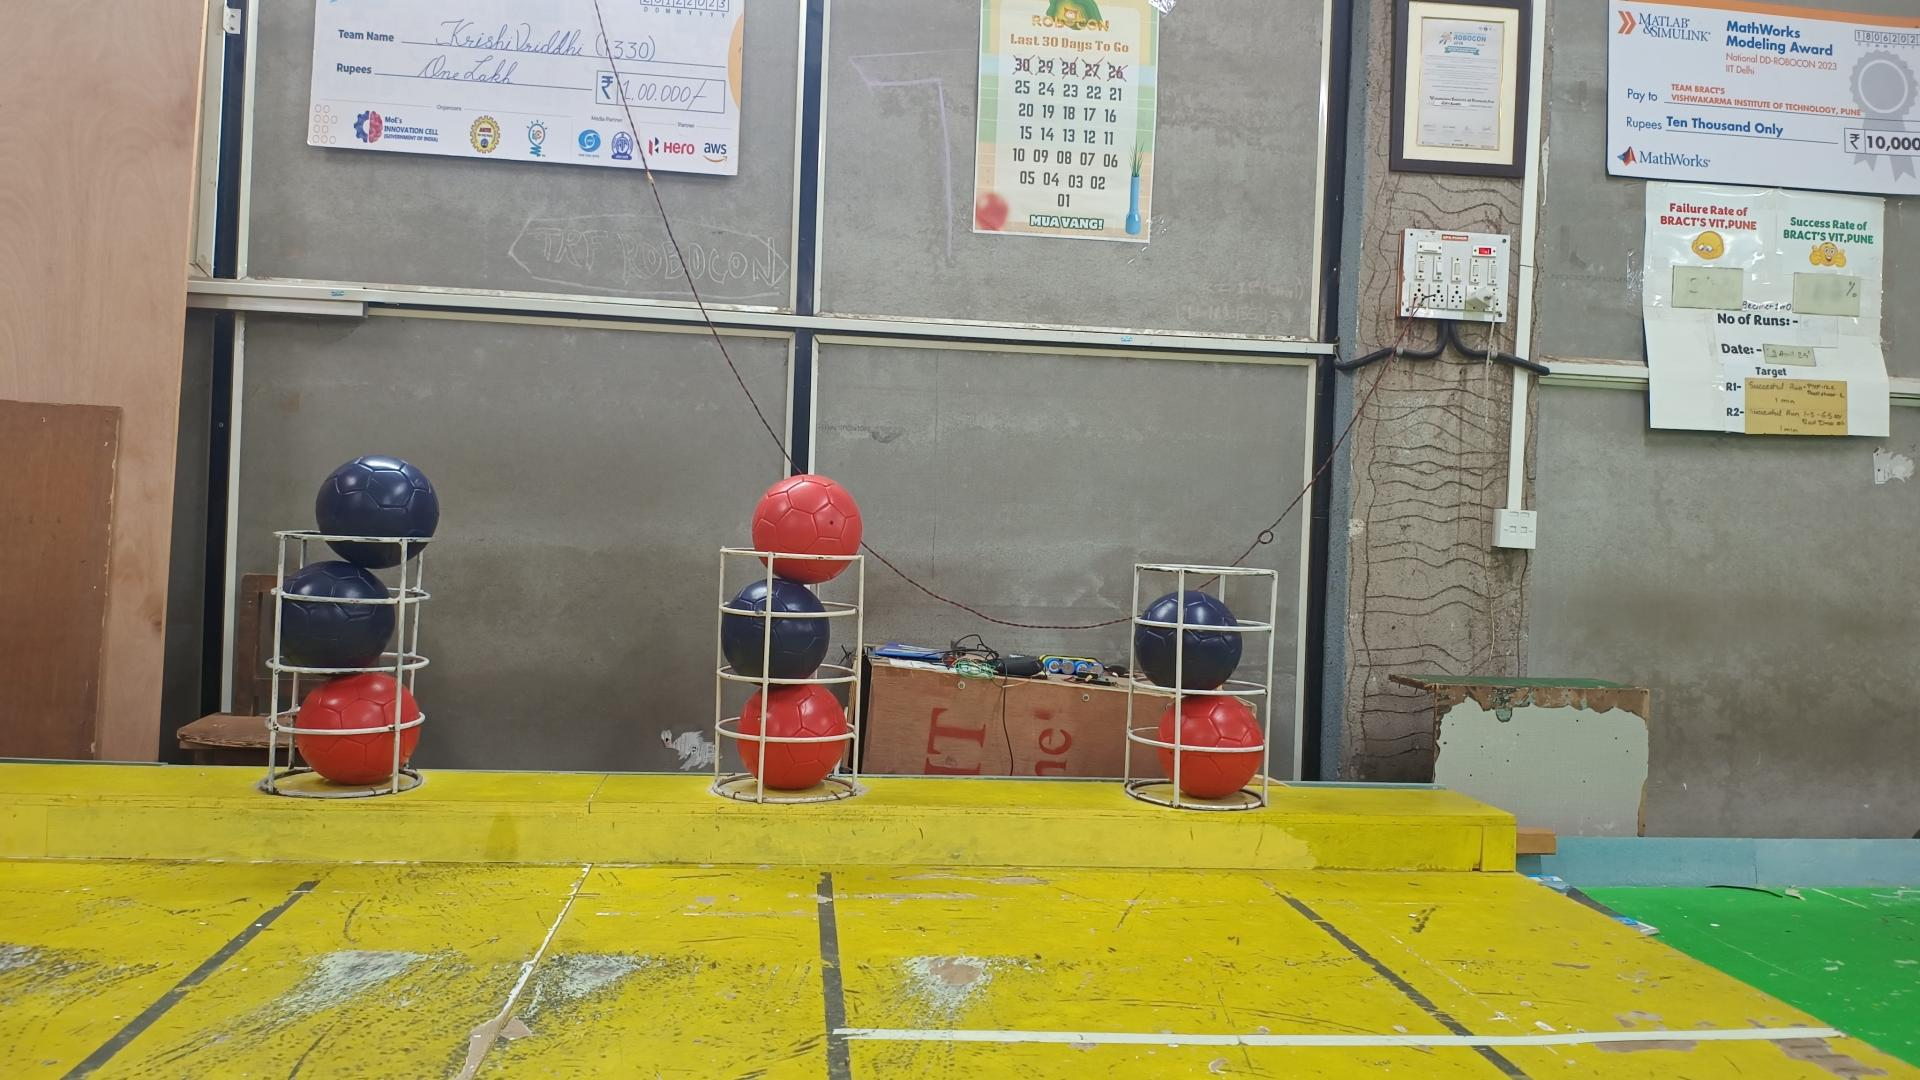dhoka: (315, 454, 439, 570), (281, 559, 397, 667), (1133, 588, 1241, 690), (720, 578, 828, 679)
laale: (297, 671, 423, 783), (750, 472, 862, 585), (738, 683, 848, 791), (1155, 694, 1263, 799)
